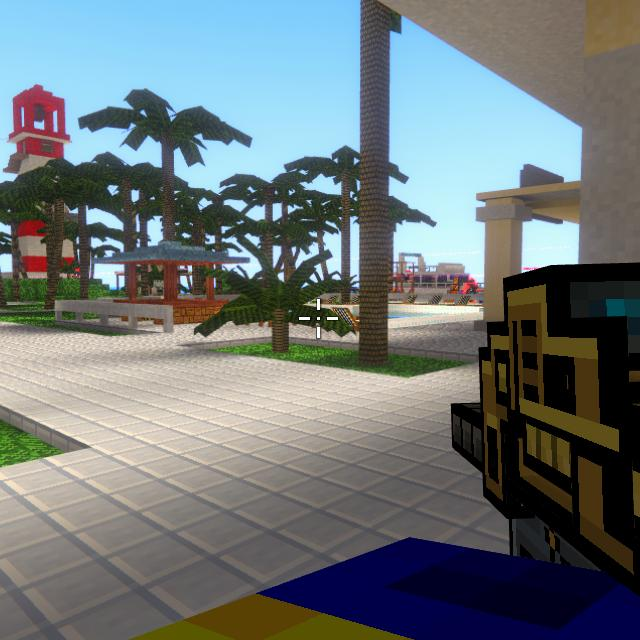Enemy: (466, 280, 479, 302)
